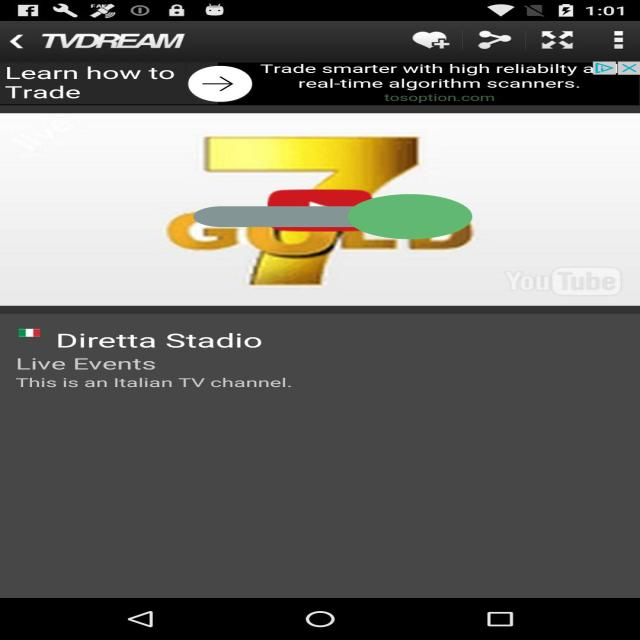social proof: (193, 166, 472, 267)
